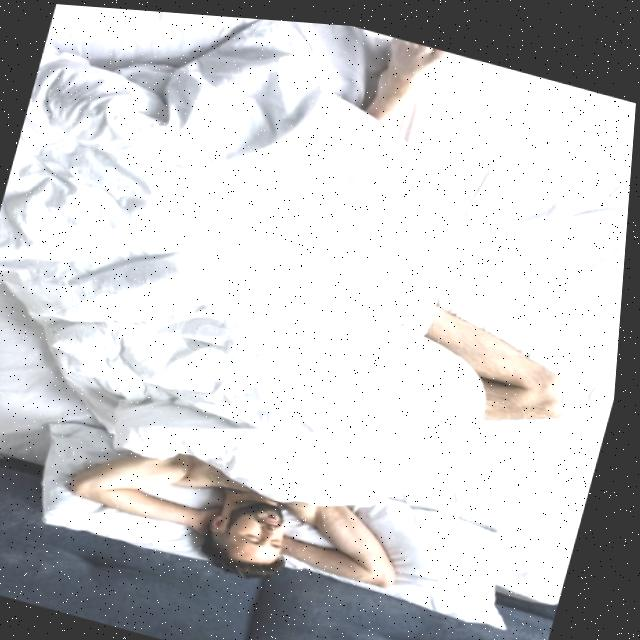sleeping-person: (28, 4, 640, 640)
